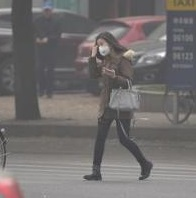person: (81, 29, 156, 183), (33, 1, 67, 100)
